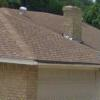Chimney: (56, 3, 89, 48)
